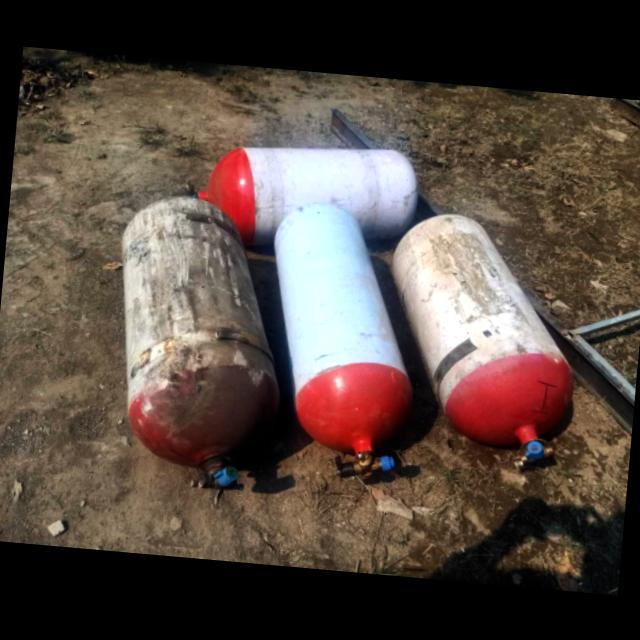Cylinders: (116, 187, 282, 503), (387, 212, 571, 459), (270, 200, 415, 475), (180, 143, 419, 237)
